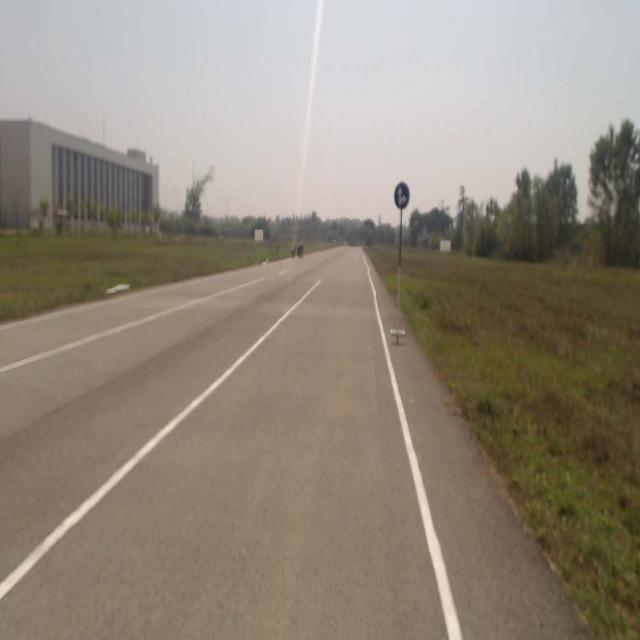ilerisag: (394, 181, 411, 211)
